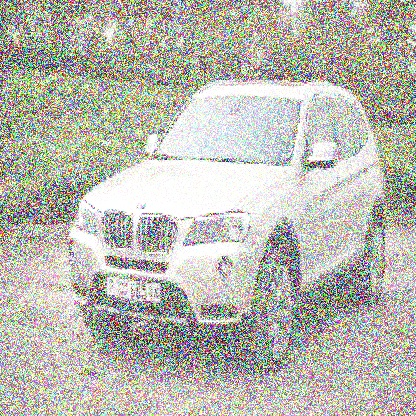Vehicle: (68, 74, 390, 375)
